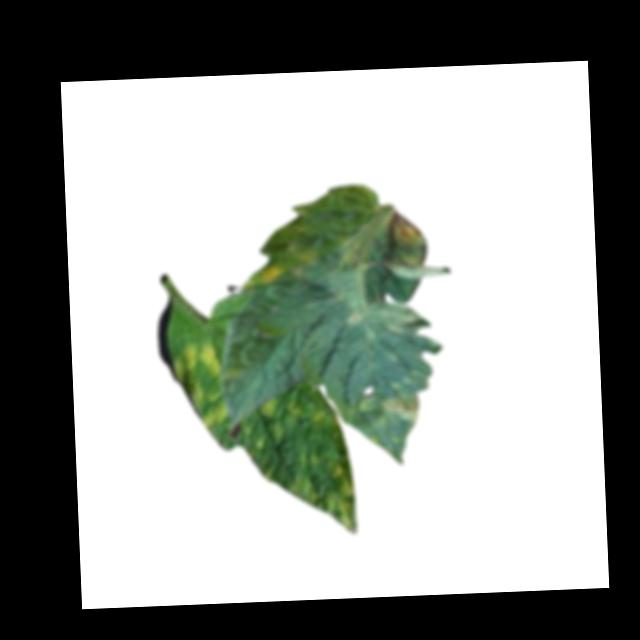Leaf_Mold: (284, 449, 359, 538), (168, 341, 228, 429), (345, 299, 431, 341), (382, 210, 424, 254), (376, 391, 420, 429), (238, 261, 287, 293), (255, 396, 285, 426)
